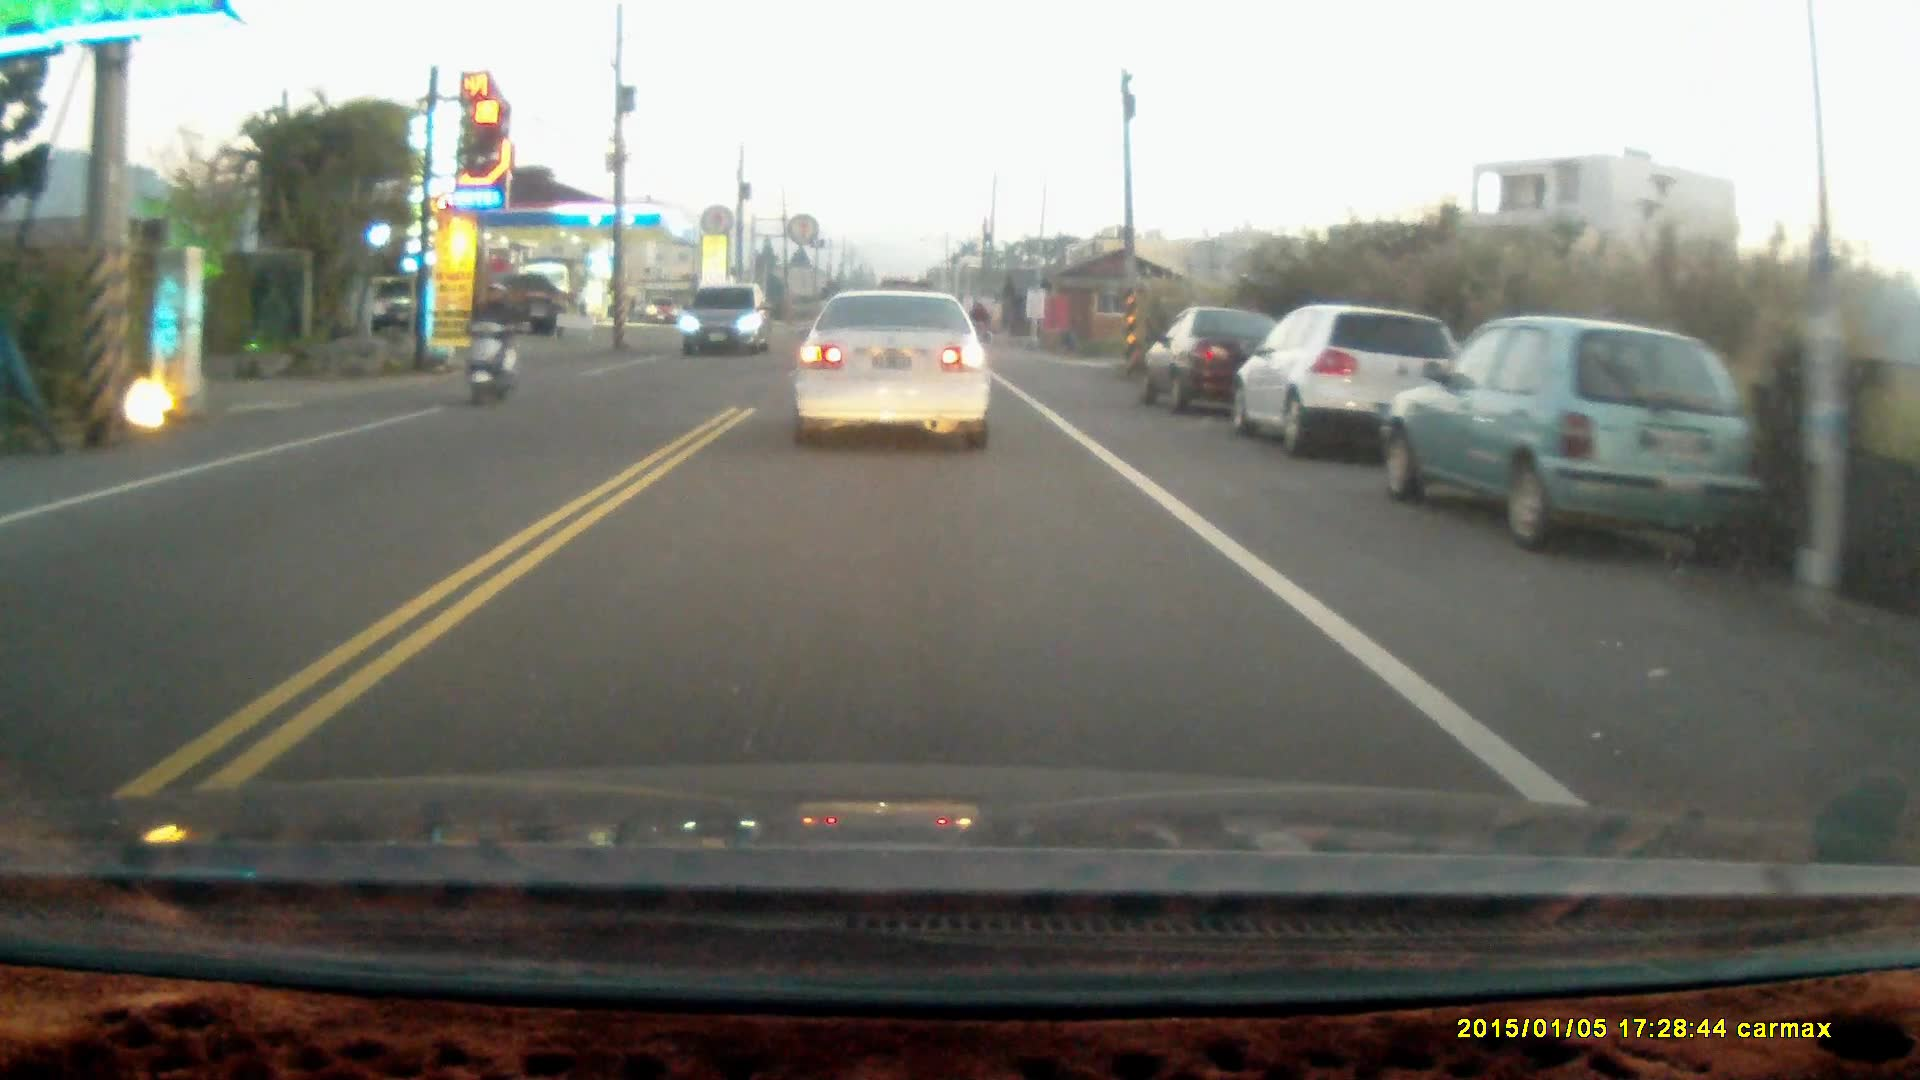rider: (463, 277, 517, 409)
vehicle: (1379, 318, 1766, 556), (1237, 308, 1461, 467), (792, 289, 996, 455), (1144, 311, 1288, 420), (679, 284, 773, 358)
